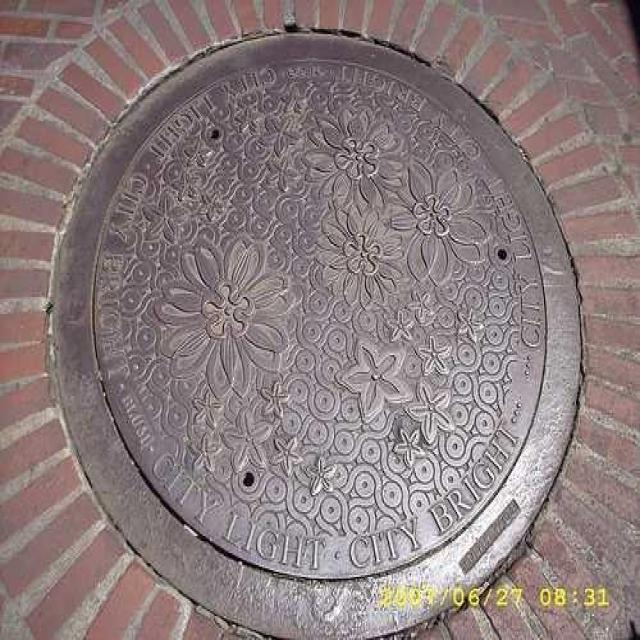manhole: (45, 29, 584, 640)
